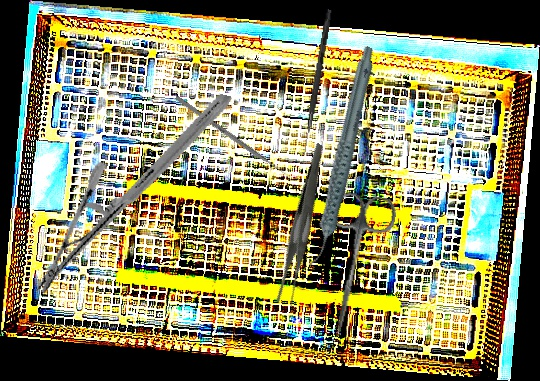Dressing Forceps: (236, 142, 371, 310)
Handpiece: (264, 44, 417, 269)
Hook Surgical: (301, 8, 333, 157)
Iris Scissors: (310, 188, 399, 342)
Needle Holder: (35, 60, 231, 327)
Pusher: (174, 95, 292, 180)
